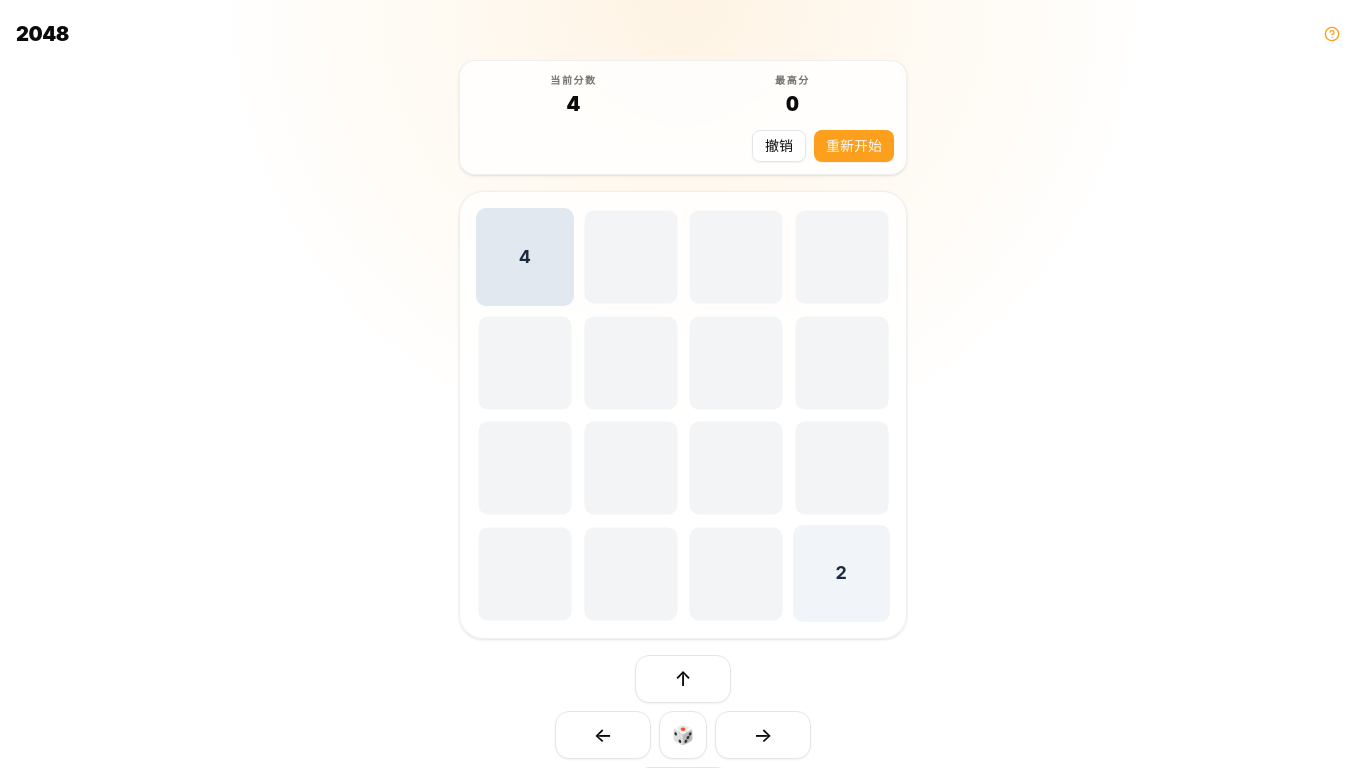
Test: Game2048 › StrictMode move transactions › records one merge, random tile, sound and undo entry per move
This screenshot has width=1366, height=768.
Click the button "撤销" at (779, 146), box [752,130,806,162]
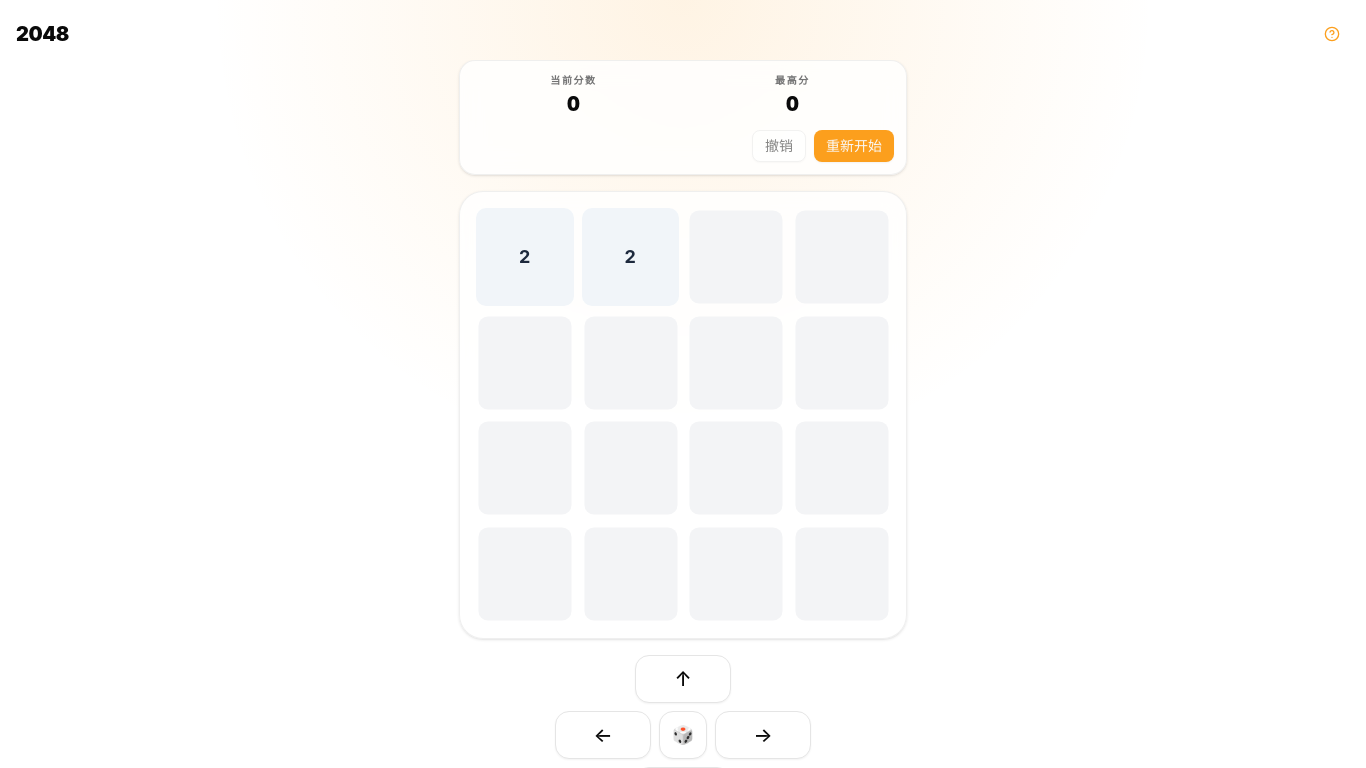
Check: the button "撤销" is disabled, box [752,130,806,162]
